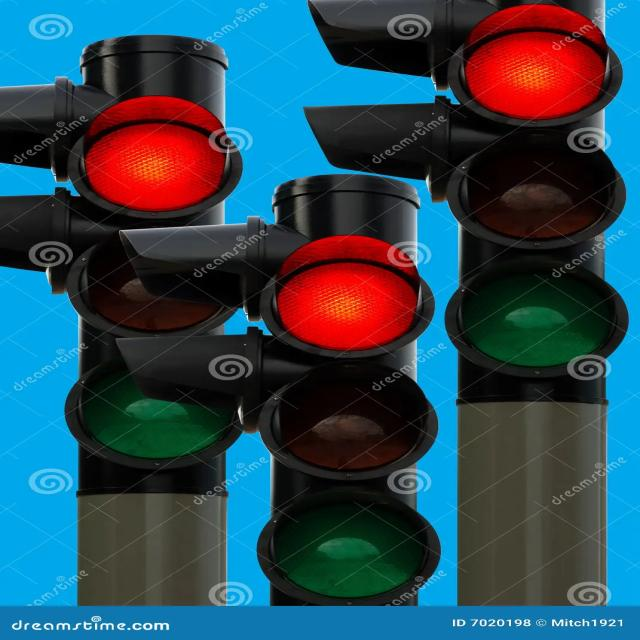red: (78, 94, 217, 230), (474, 20, 596, 126), (286, 242, 398, 354)
